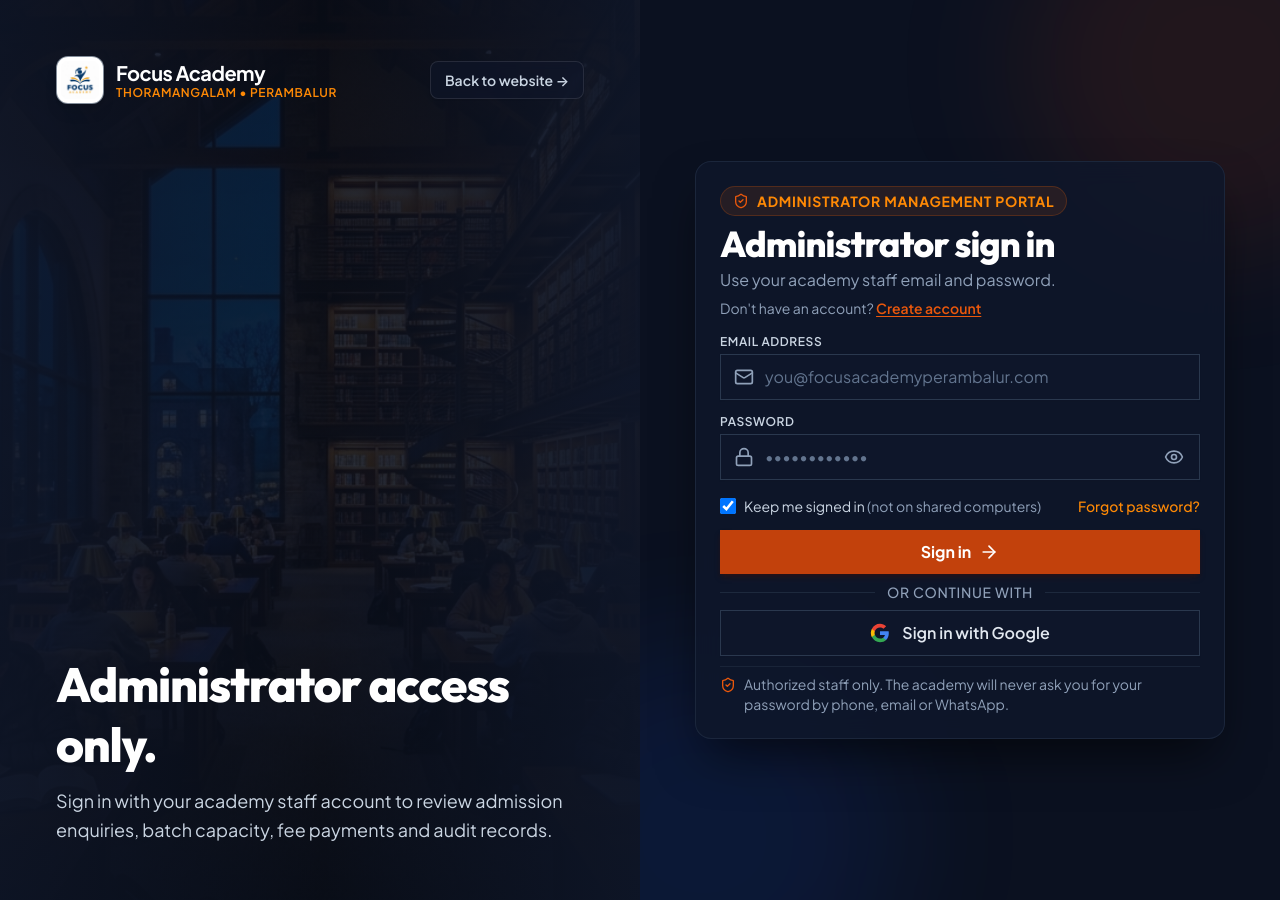
Scenario: Admin login page › offers a fresh verification link when the email is unverified
In the field labelled "Email address": coordinates (960, 377) [720,354,1200,400], type "director@focusacademyperambalur.com"
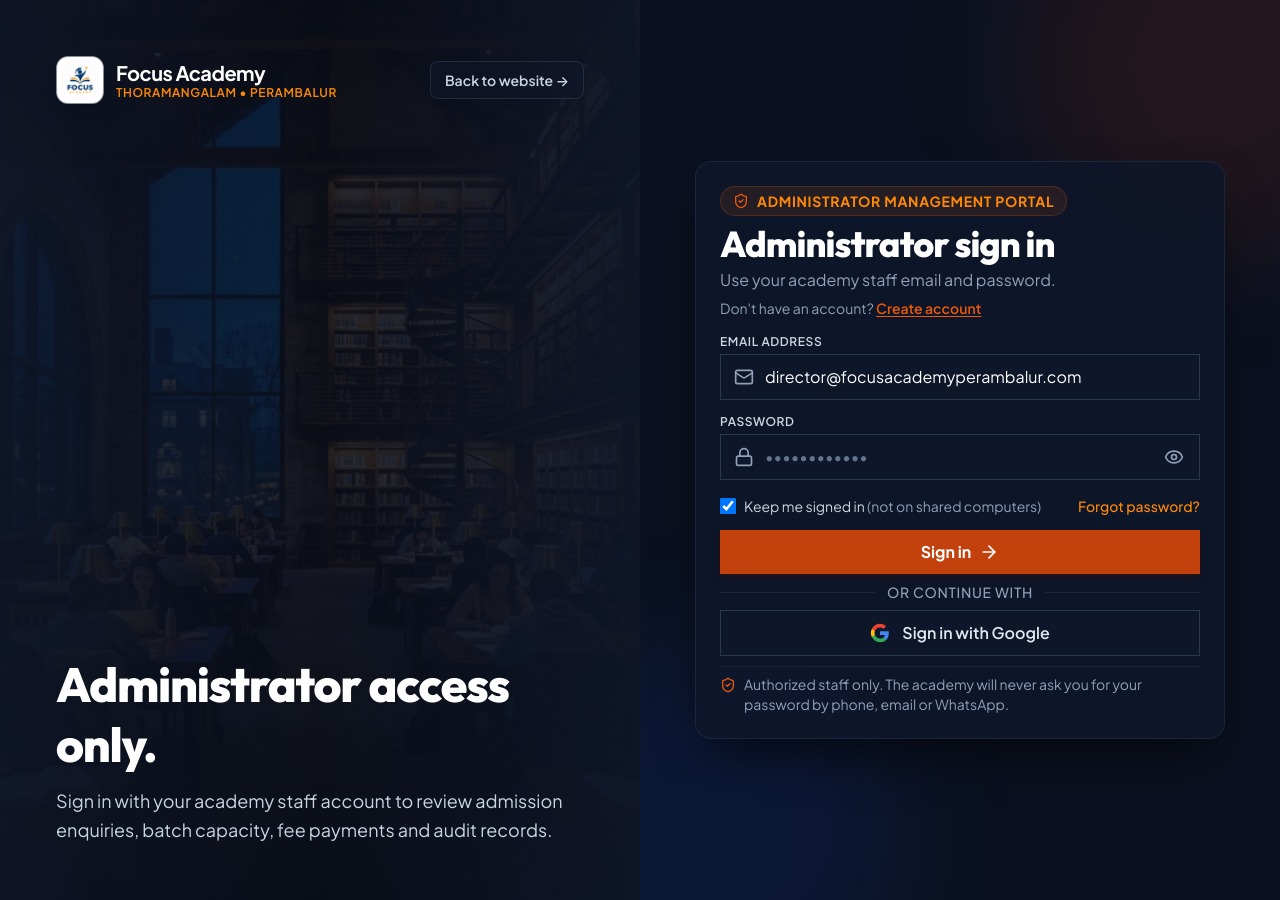
In the password field labelled "Password": coordinates (960, 457) [720,434,1200,480], type "Correct-horse-9"
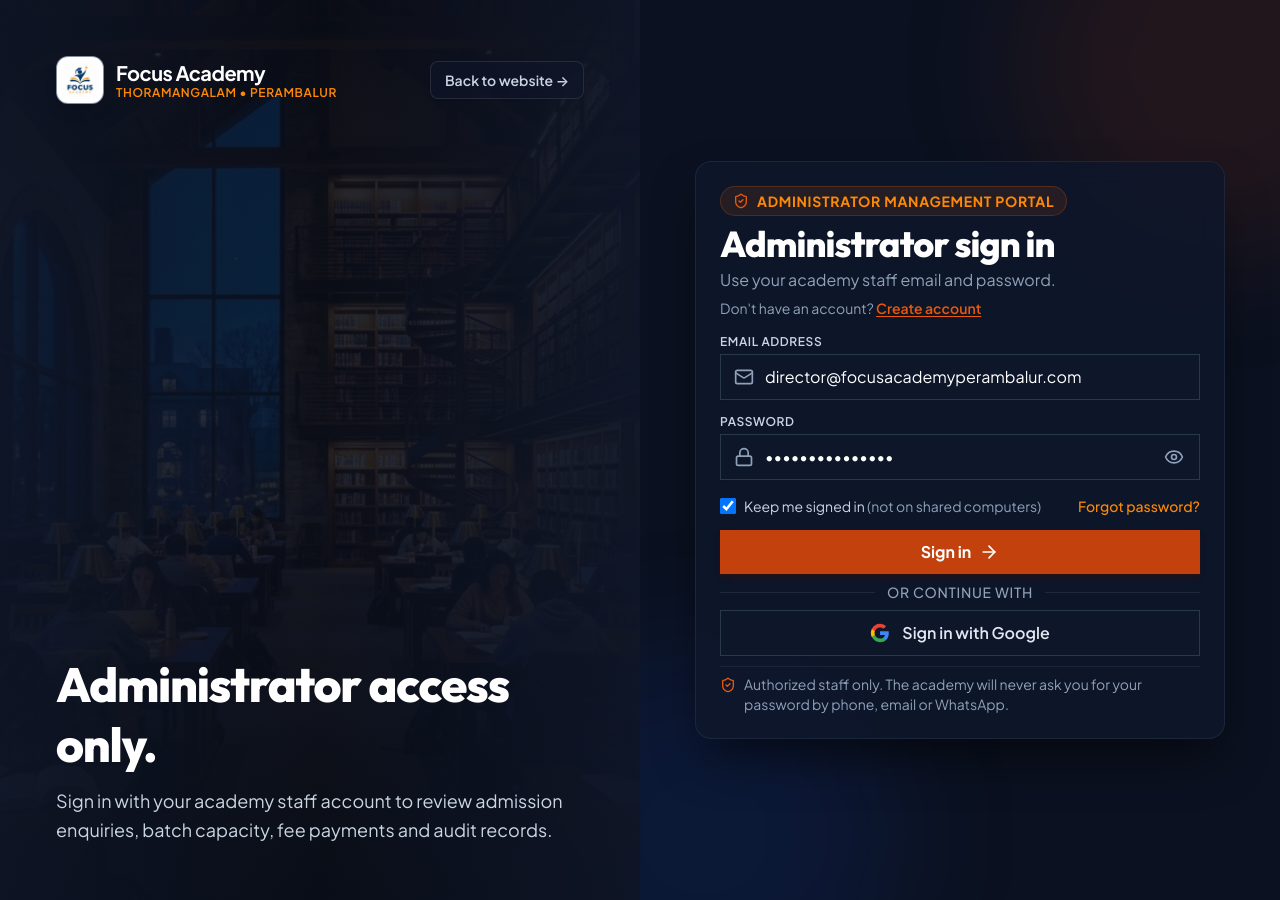
Click the button "Sign in": coordinates (960, 552) [720,530,1200,574]
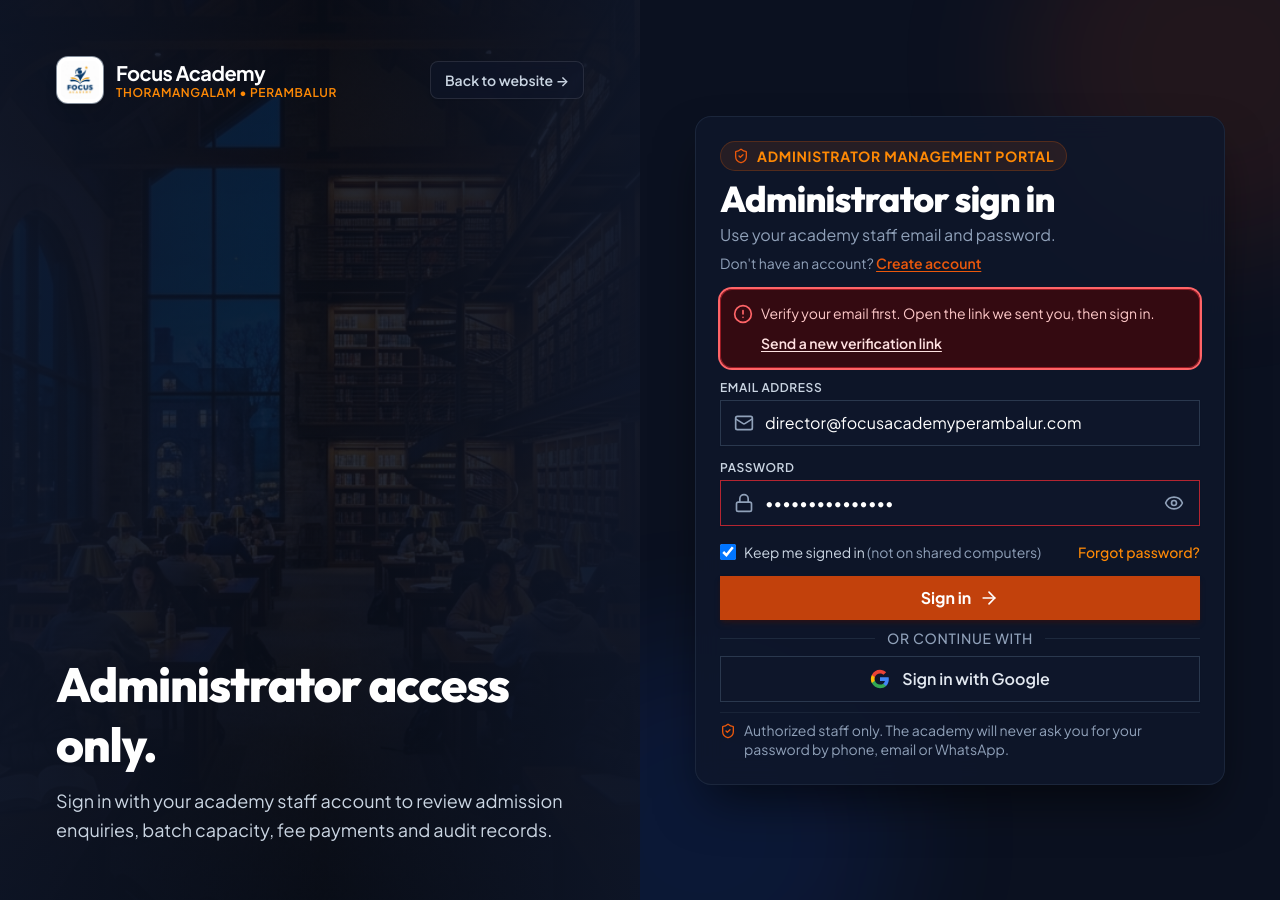
Click the button "Send a new verification link": coordinates (851, 344) [761,332,942,355]
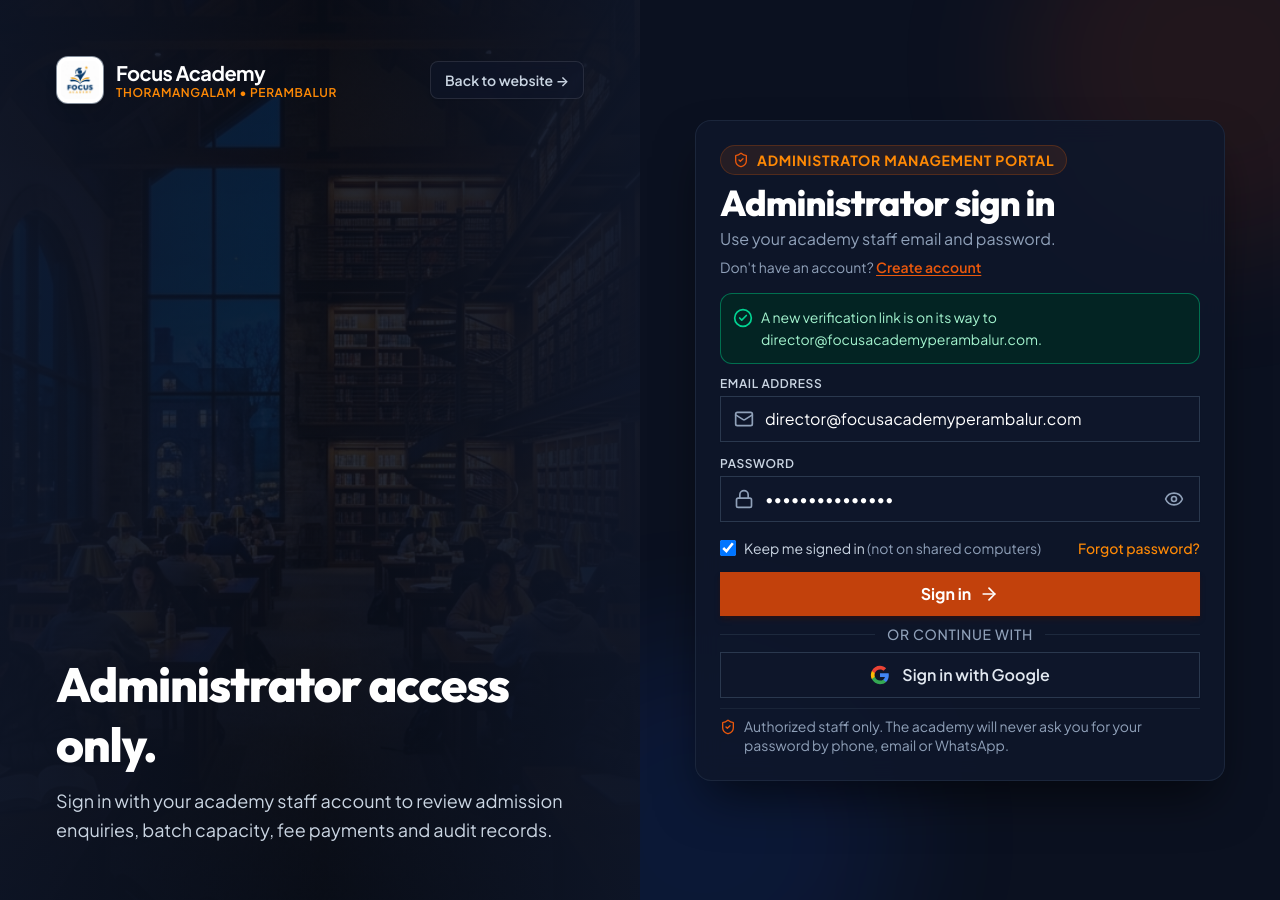
Expected: the message shows "new verification link", [761,308,1042,348]
